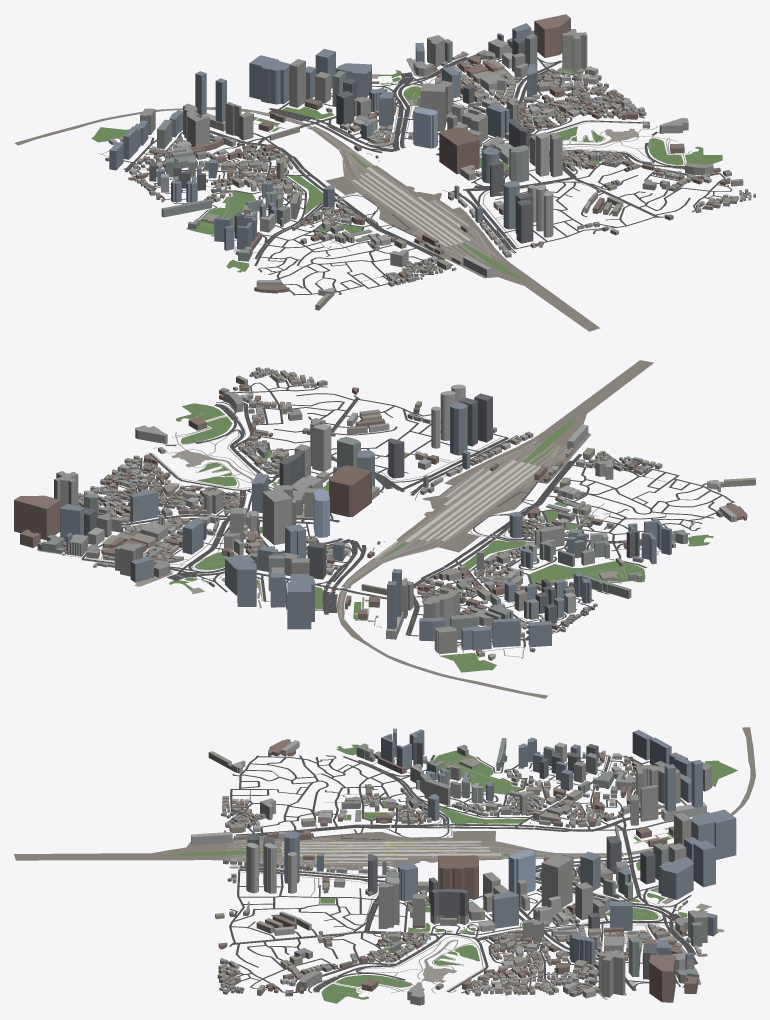
The picture shows the model from 3 angles, top to bottom: view 1: azimuth 30°, elevation 25°; view 2: azimuth 150°, elevation 25°; view 3: azimuth 270°, elevation 25°; orthographic projection. The views are drawn at different scales.
Visible parts, largest first — view 1: G_Roads_Asphalt, G_Area_railyard, G_Area_green, T_Sleepers_Bed, T_Ballast_Shoulder, T_Platforms, B_삼성생명 서소문빌딩_502810169, G_Footways, B_서울스퀘어_216477743, B_신세계백화점 본점 디 에스테이트_781964195, B_리더스뷰 남산_231974861, B_연세세브란스빌딩_443520736 (+13 smaller); view 2: G_Roads_Asphalt, G_Area_railyard, G_Area_green, T_Sleepers_Bed, T_Ballast_Shoulder, T_Platforms, G_Footways, B_서울스퀘어_216477743, B_신세계백화점 본점 디 에스테이트_781964195, B_삼성생명 서소문빌딩_502810169, B_SG타워_770858370, G_Area_pedestrian (+21 smaller); view 3: G_Roads_Asphalt, G_Area_railyard, G_Area_green, T_Sleepers_Bed, T_Platforms, G_Footways, T_Ballast_Shoulder, B_삼성생명 서소문빌딩_502810169, B_서울스퀘어_216477743, B_SG타워_770858370, G_Roads_Curb, B_대한상공회의소_344645395 (+26 smaller).
Boxes of the visible parts, <box> form: G_Roads_Asphalt: <box>123,54,747,295</box>; G_Area_railyard: <box>14,107,600,331</box>; G_Area_green: <box>91,69,722,280</box>; T_Sleepers_Bed: <box>249,111,500,263</box>; T_Ballast_Shoulder: <box>249,111,498,261</box>; T_Platforms: <box>351,149,471,246</box>; B_삼성생명 서소문빌딩_502810169: <box>249,55,289,104</box>; G_Footways: <box>98,56,700,282</box>; B_서울스퀘어_216477743: <box>439,127,479,174</box>; B_신세계백화점 본점 디 에스테이트_781964195: <box>534,14,570,57</box>; B_리더스뷰 남산_231974861: <box>562,29,587,72</box>; B_연세세브란스빌딩_443520736: <box>413,107,437,148</box>; G_Roads_Asphalt: <box>43,375,734,647</box>; G_Area_railyard: <box>336,360,653,698</box>; G_Area_green: <box>169,403,713,672</box>; T_Sleepers_Bed: <box>339,438,568,621</box>; T_Ballast_Shoulder: <box>339,440,567,620</box>; T_Platforms: <box>373,460,540,558</box>; G_Footways: <box>56,403,693,659</box>; B_서울스퀘어_216477743: <box>329,465,371,517</box>; B_신세계백화점 본점 디 에스테이트_781964195: <box>14,495,60,540</box>; B_삼성생명 서소문빌딩_502810169: <box>287,574,314,629</box>; B_SG타워_770858370: <box>262,488,291,545</box>; G_Area_pedestrian: <box>37,450,381,627</box>; G_Roads_Asphalt: <box>228,755,697,993</box>; G_Area_railyard: <box>14,727,755,870</box>; G_Area_green: <box>162,744,737,1003</box>; T_Sleepers_Bed: <box>225,838,673,865</box>; T_Platforms: <box>281,841,543,860</box>; G_Footways: <box>232,756,697,993</box>; T_Ballast_Shoulder: <box>225,838,673,865</box>; B_삼성생명 서소문빌딩_502810169: <box>691,809,736,859</box>; B_서울스퀘어_216477743: <box>438,855,478,898</box>; B_SG타워_770858370: <box>541,854,572,908</box>; G_Roads_Curb: <box>229,756,696,992</box>; B_대한상공회의소_344645395: <box>658,857,693,899</box>.
Bounding box in the file's own units: 1729 × 151 × 1947.
